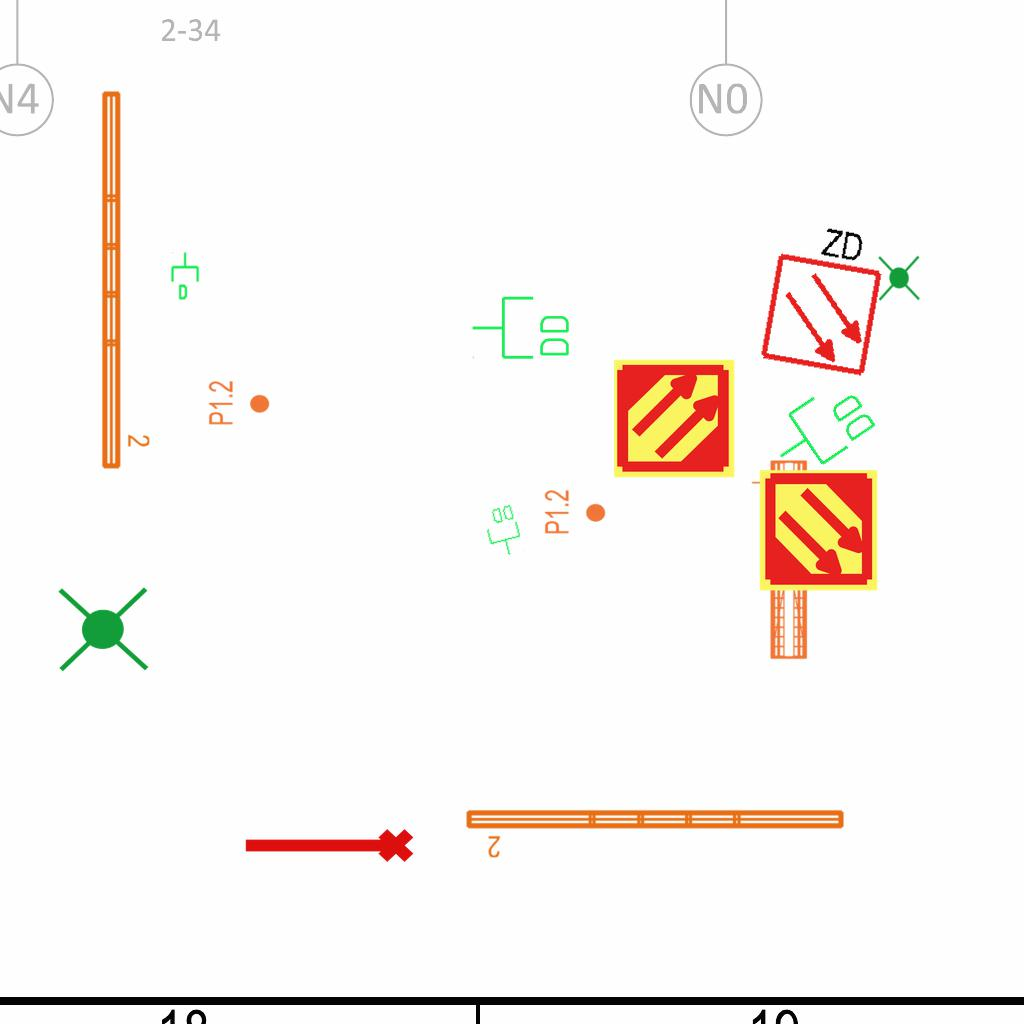ASR_Ansaugoeffnung: (240, 825, 416, 871)
ASR_Ansaugrauchmelder: (612, 356, 737, 481), (756, 468, 881, 593)
Ambulanz_Pendelleuchte_LED: (462, 804, 849, 860), (96, 86, 152, 473)
Buero_Pendelleuchten_LED: (747, 457, 812, 663)
Datenanschluss_einfach: (169, 251, 203, 301)
Datenanschluss_zweifach: (759, 372, 884, 487), (470, 294, 573, 363), (480, 501, 527, 561)
Downlight_LED_Einbauleuchten_Flur: (543, 489, 607, 535), (207, 380, 271, 426)
Notlichtbaustein_in_Allgemeinbeleuchtug_engebaut_Einbau_(1UG_und_2UG_Aufbauvaria: (53, 579, 153, 682), (873, 253, 924, 303)
ZD_Melder_in_Zwischendecke_mit_Revisionsoeffnung_mind_40_x_40_cm: (753, 212, 893, 379)
